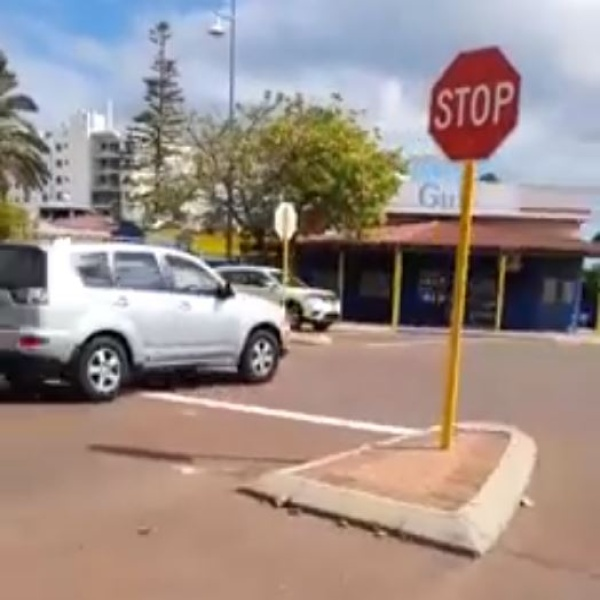stop: (423, 52, 525, 159)
